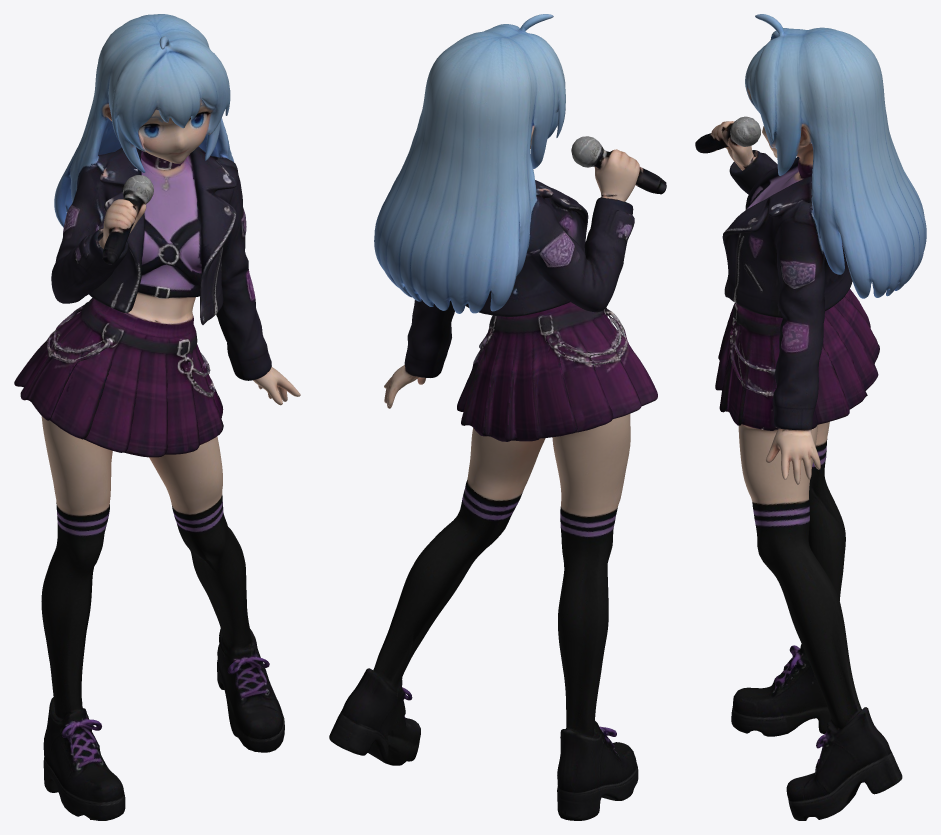
The model's file is idol-model-blue.glb.
The picture shows the model from 3 angles, left to right: view 1: azimuth 30°, elevation 25°; view 2: azimuth 150°, elevation 25°; view 3: azimuth 270°, elevation 25°; orthographic projection.
Visible parts, largest first — view 1: tripo_node_855b981a-003e-45e0-9e2f-5a8bfef8820d; view 2: tripo_node_855b981a-003e-45e0-9e2f-5a8bfef8820d; view 3: tripo_node_855b981a-003e-45e0-9e2f-5a8bfef8820d.
Part boxes in pixels (x1,y1,x2,y2): tripo_node_855b981a-003e-45e0-9e2f-5a8bfef8820d: (14, 14, 300, 820); tripo_node_855b981a-003e-45e0-9e2f-5a8bfef8820d: (329, 14, 666, 820); tripo_node_855b981a-003e-45e0-9e2f-5a8bfef8820d: (695, 14, 926, 820).
Size of the model in its own units: 0.3664 by 0.9788 by 0.2756.
Materials: 1 (1 with a texture image).
